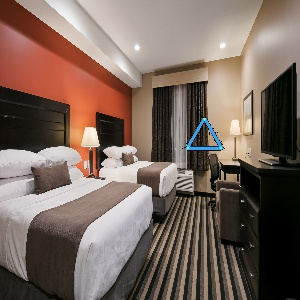triangle: (182, 115, 227, 153)
